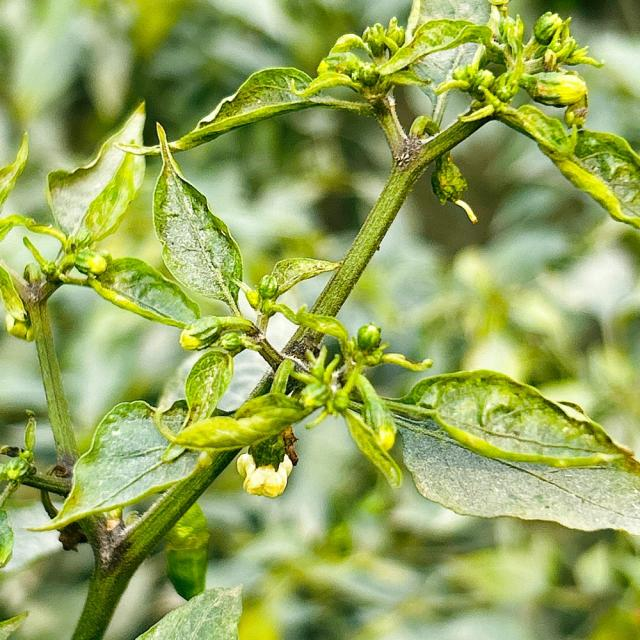Chilli_Leaf_Curl: (1, 2, 638, 636), (384, 367, 639, 535), (26, 398, 206, 534), (149, 122, 245, 314), (168, 65, 374, 152), (306, 15, 494, 105), (44, 98, 148, 256), (157, 391, 313, 455), (87, 256, 201, 330), (133, 582, 245, 638)
